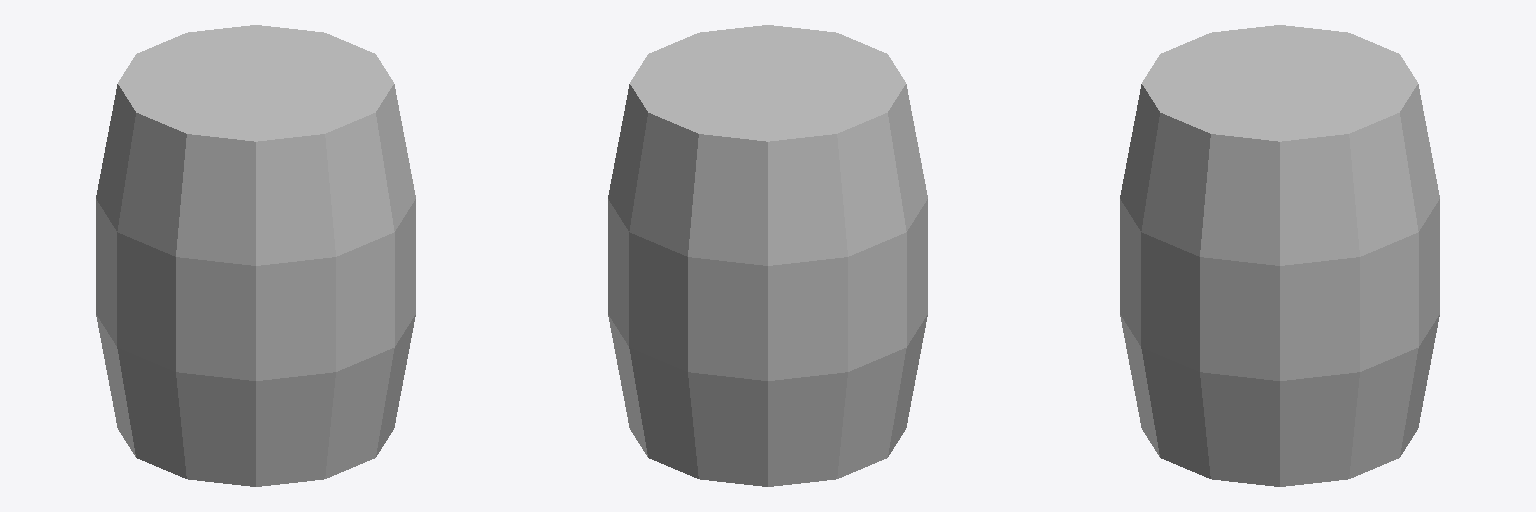
The model's file is barrel.obj.
The picture shows the model from 3 angles: view 1: azimuth 30°, elevation 25°; view 2: azimuth 150°, elevation 25°; view 3: azimuth 270°, elevation 25°; orthographic projection.
Visible parts, largest first — view 1: Barel_01; view 2: Barel_01; view 3: Barel_01.
Boxes of the visible parts, <box> form: Barel_01: <box>96,25,415,486</box>; Barel_01: <box>608,25,927,486</box>; Barel_01: <box>1120,25,1439,486</box>.
Bounding box in the file's own units: 0.7142 × 0.85 × 0.7142.